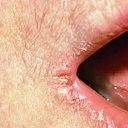Cold Sore: (56, 62, 79, 97)
